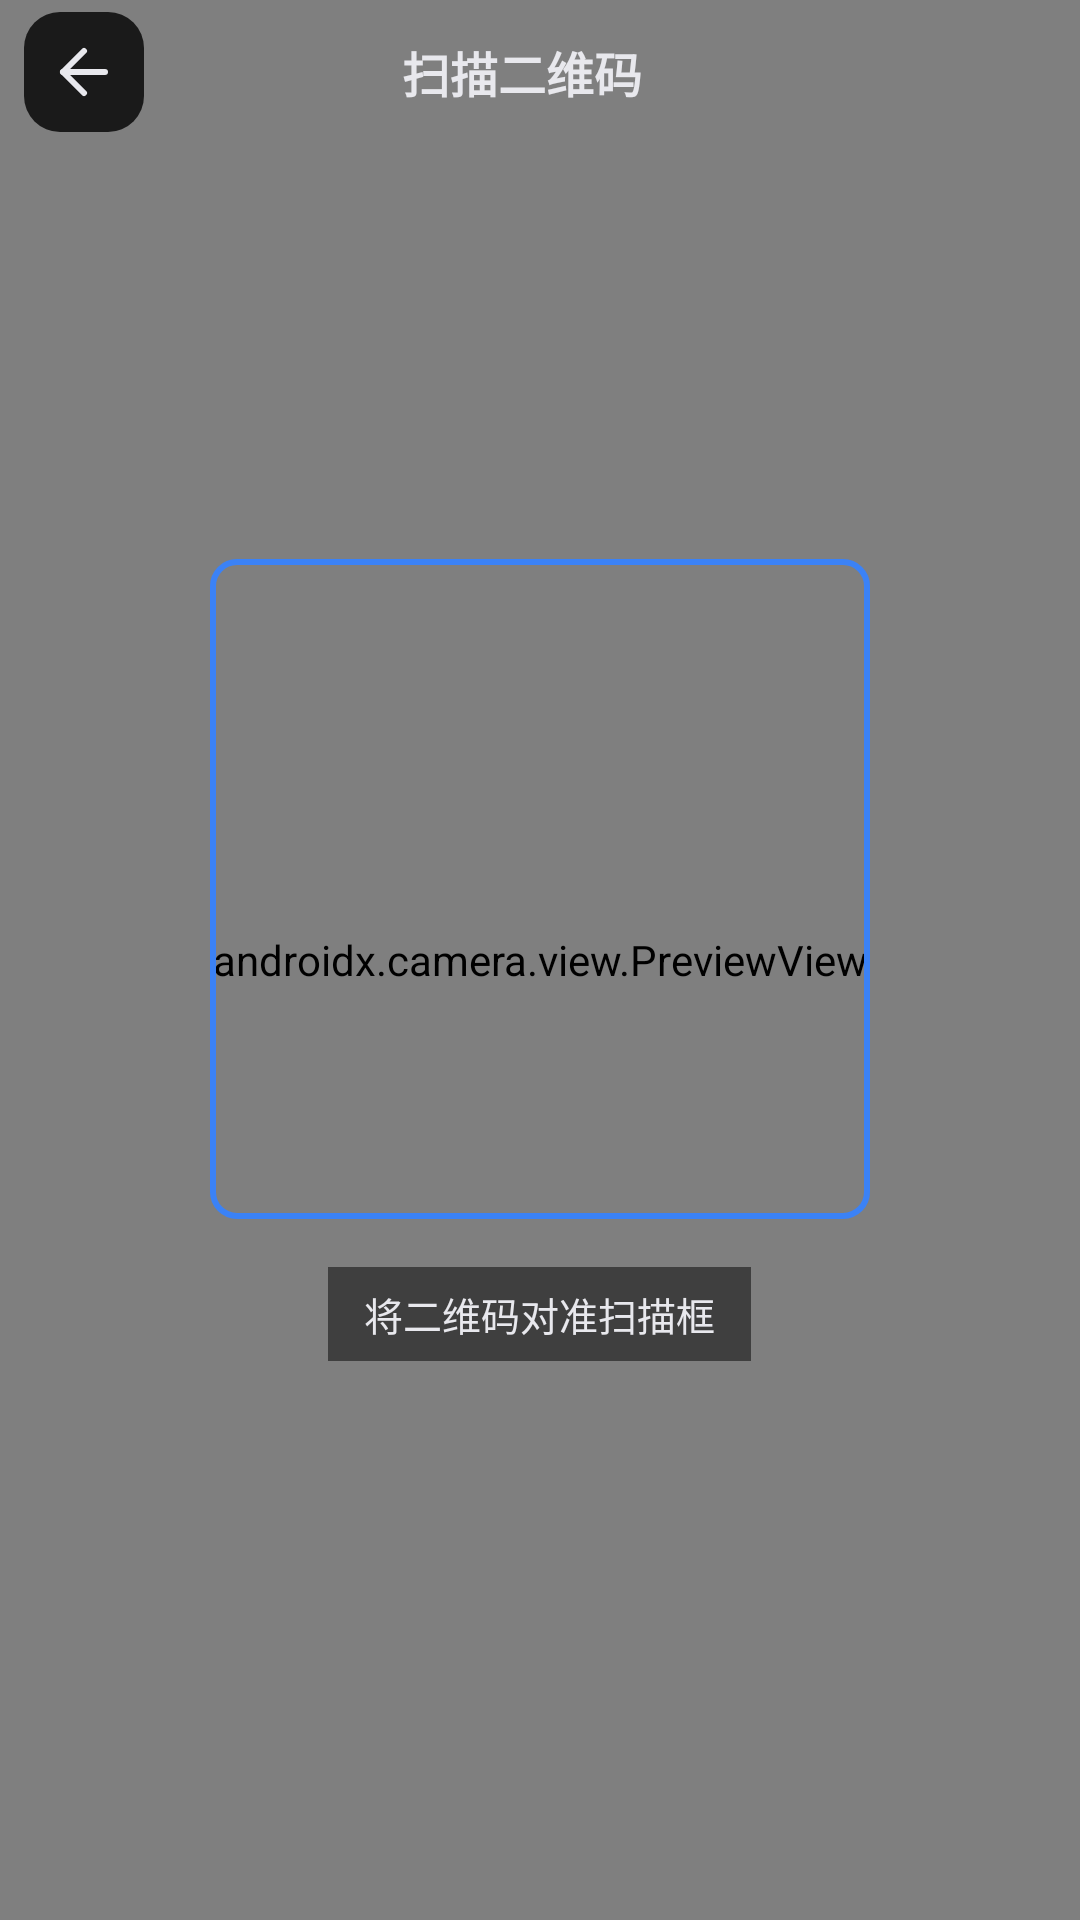

Icons on this 1080*1920 Android screen, each with its box as {"x1": x1, "y1": y1, "x2": x2, "y2": y2}:
← 返回: {"x1": 24, "y1": 12, "x2": 144, "y2": 132}
